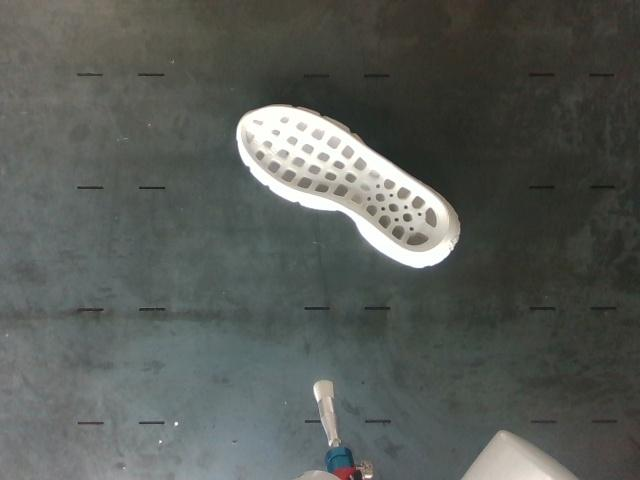shoes: (240, 106, 451, 253)
